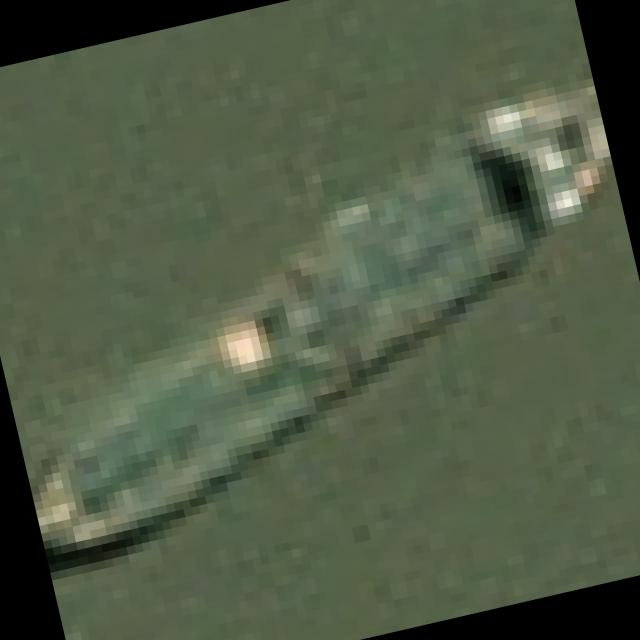ship: (0, 12, 640, 581)
